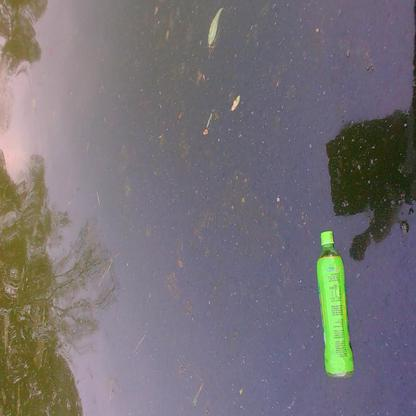plastic bottle: (315, 230, 355, 378)
